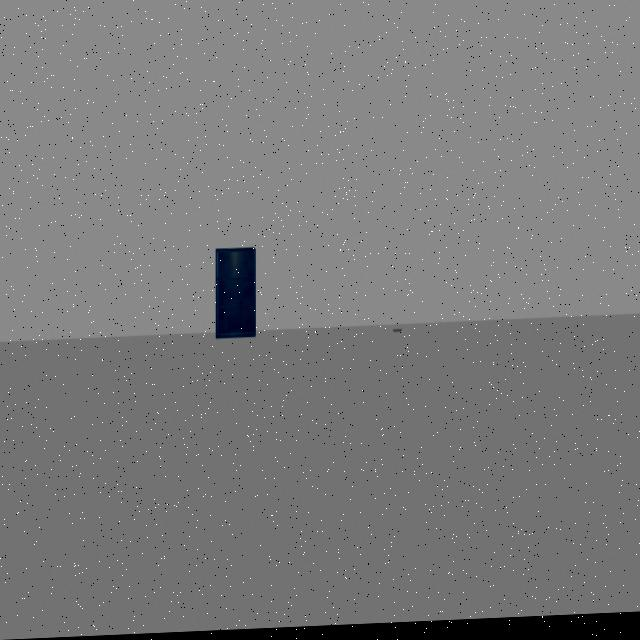bowl: (388, 331, 406, 340)
shelf: (209, 239, 264, 355)
